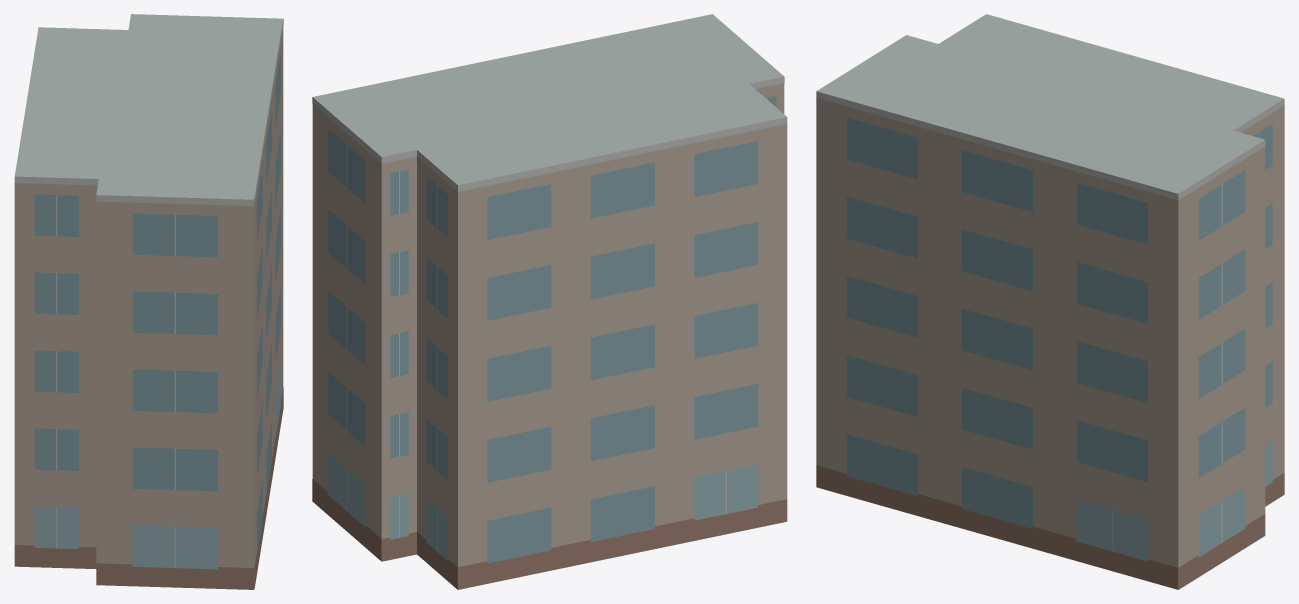
The model's file is survey-upis-32609780.glb.
The picture shows the model from 3 angles, left to right: view 1: azimuth 30°, elevation 25°; view 2: azimuth 150°, elevation 25°; view 3: azimuth 270°, elevation 25°; orthographic projection. The views are drawn at different scales.
Visible parts, largest first — view 1: survey-upis-32609780.tmp; view 2: survey-upis-32609780.tmp; view 3: survey-upis-32609780.tmp.
Part boxes in pixels (box(x1,y1,x2,y2)): survey-upis-32609780.tmp: box(14, 14, 283, 589); survey-upis-32609780.tmp: box(312, 14, 787, 589); survey-upis-32609780.tmp: box(816, 14, 1284, 589).
Bounding box in the file's own units: 14.43 × 14.8 × 15.88.
